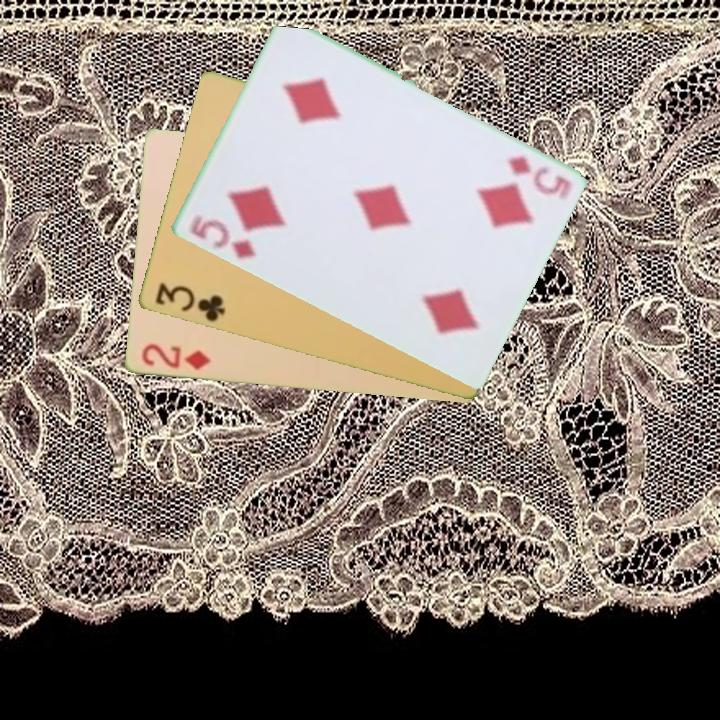2d: (137, 341, 214, 373)
3c: (151, 279, 228, 325)
5d: (186, 212, 258, 262), (503, 152, 574, 201)
